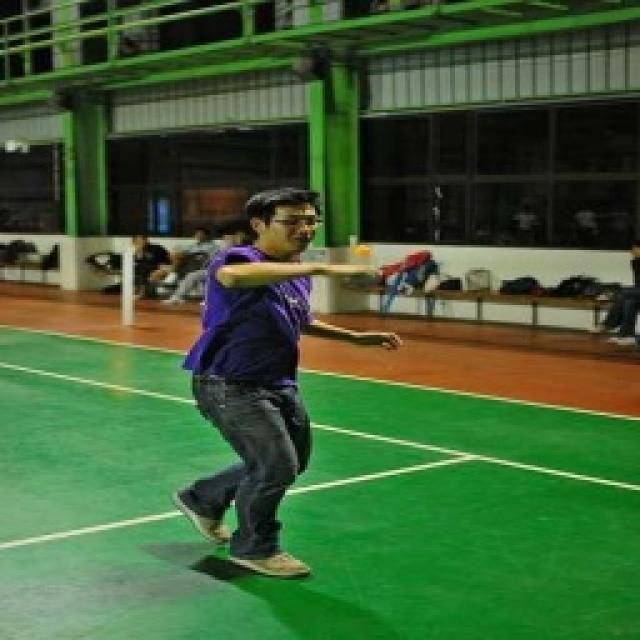oball: (353, 244, 374, 264)
